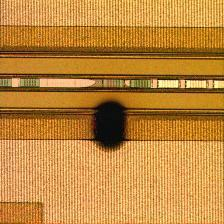PARTICLE: (91, 96, 132, 162)
